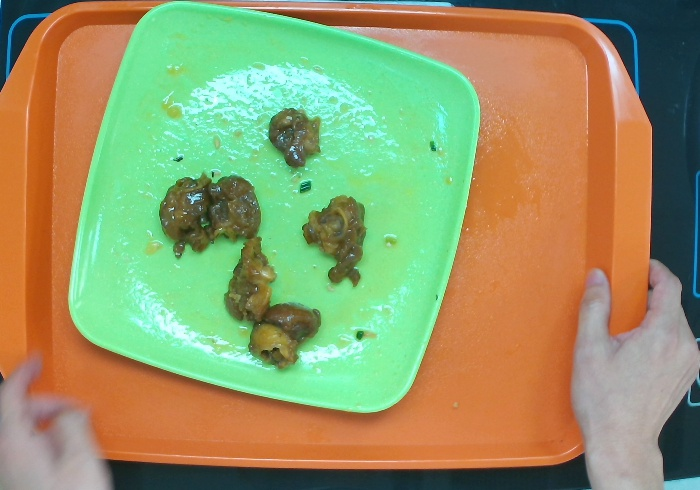ZNLD-Lv_Fang_Pan: (66, 1, 483, 413)
